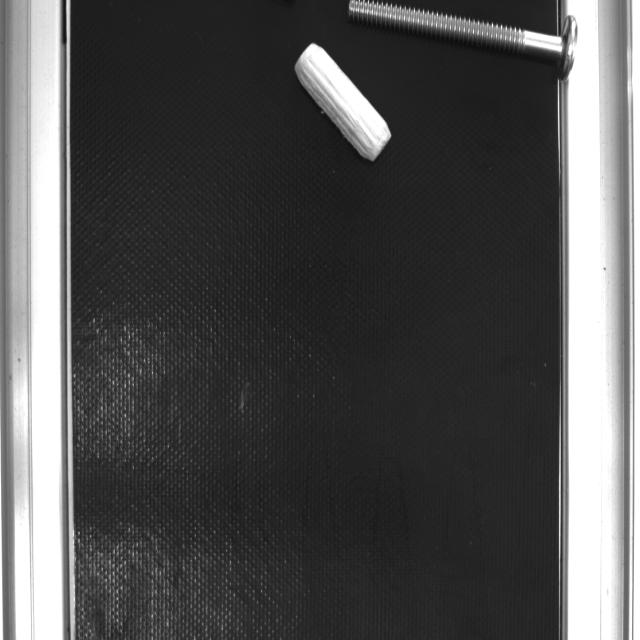Chot go: (290, 37, 396, 165)
bulon: (348, 1, 563, 63)
